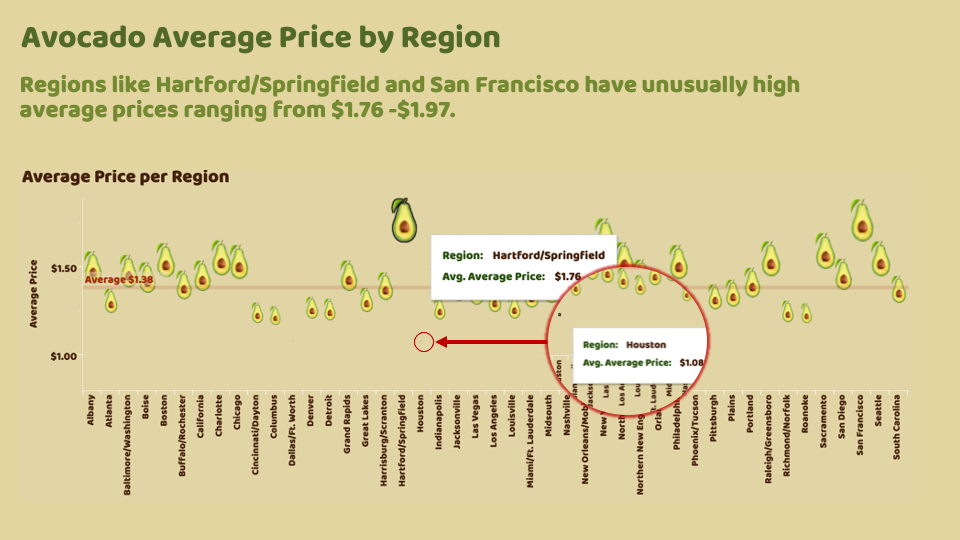

What the dashboard file says about the page in this screenshot:
{"tool":"tableau","page":{"name":"Dashboard - Average Prices","canvas":[1016,964],"ordinal":0},"visuals":[{"type":"worksheet","param":"Image/Cado_Creations_logo.png","box":[1,9,587,176]},{"type":"worksheet","box":[816,32,164,52]}]}

Visuals, with their boxes on the page's 1016x964 design canvas (x1, y1, x2, y2). These are canvas units, not pixel positions in the 960x540 screenshot, which may show the page scaled, cropped or inside an application window:
worksheet: <box>1,9,588,185</box>
worksheet: <box>816,32,980,84</box>
